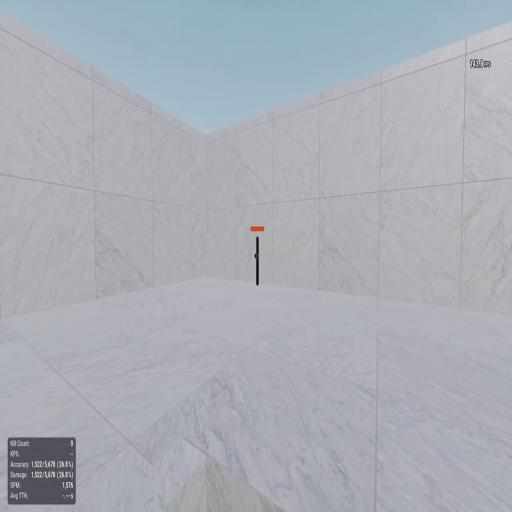Crosshair: (254, 252, 258, 261)
Target: (256, 236, 260, 286)
